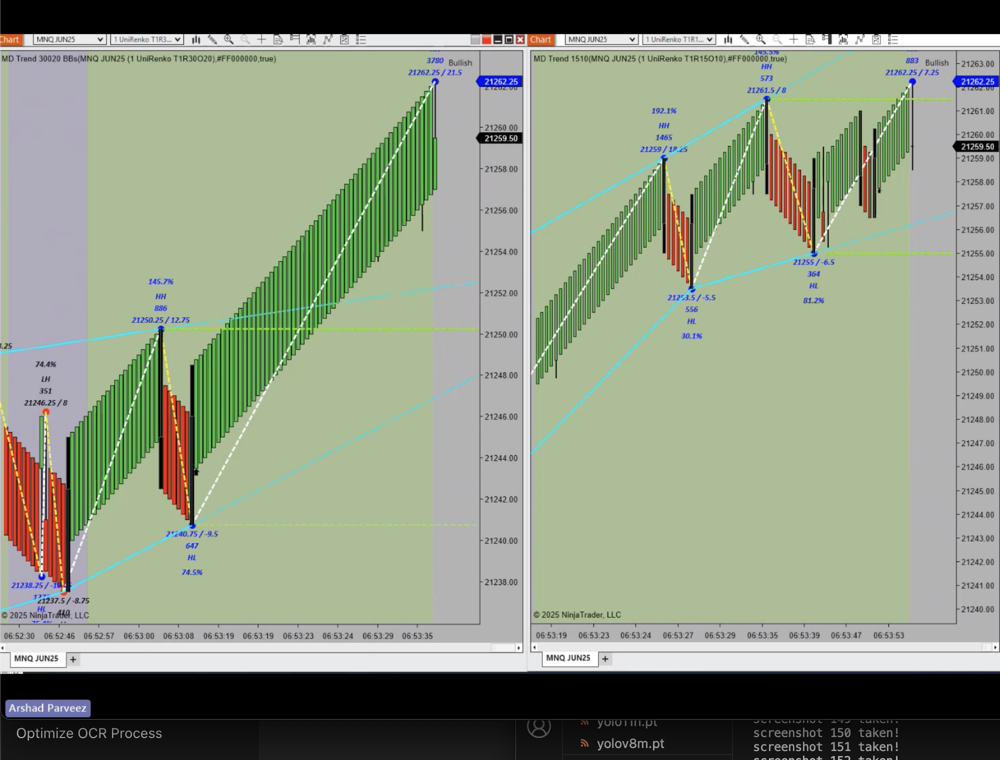HH: (149, 287, 173, 304), (754, 60, 779, 75), (654, 118, 676, 131)
HL: (803, 277, 826, 296), (180, 551, 204, 566), (683, 313, 703, 331)
LH: (37, 373, 57, 390)
